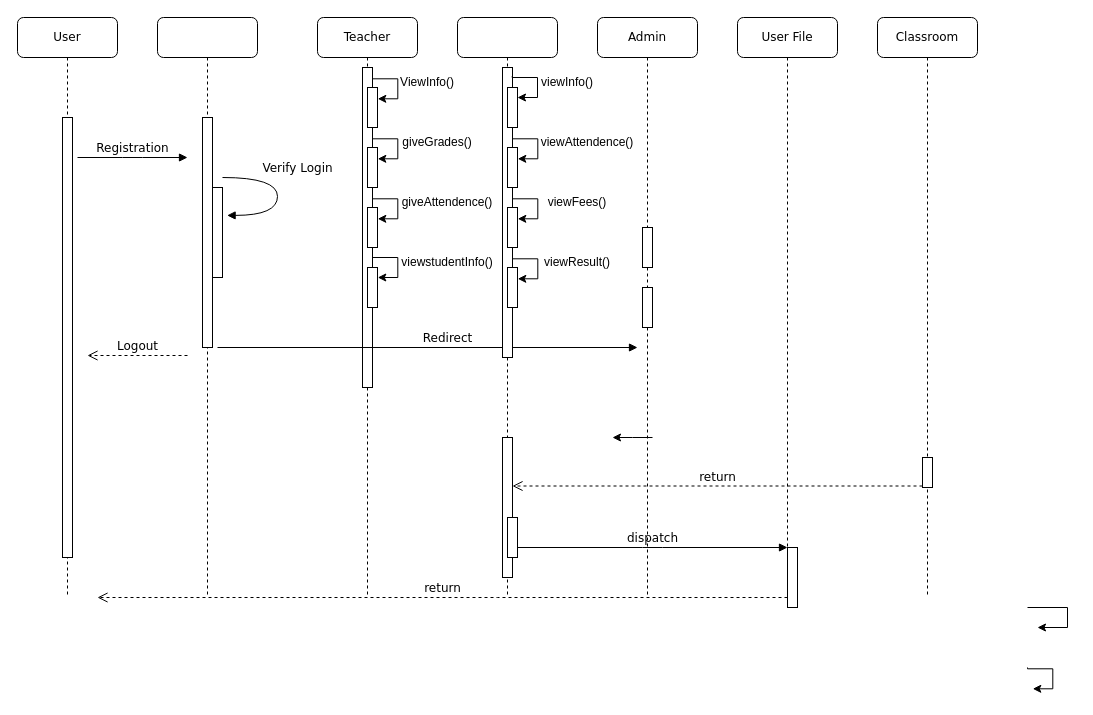
Image size: 1093x715. Some labels were removed from this diagram. The shapes that lost their labels are listed below. From the top down, each one's centre as x and y in pixels, then its label:
point 207,307: Login
point 507,307: Student
